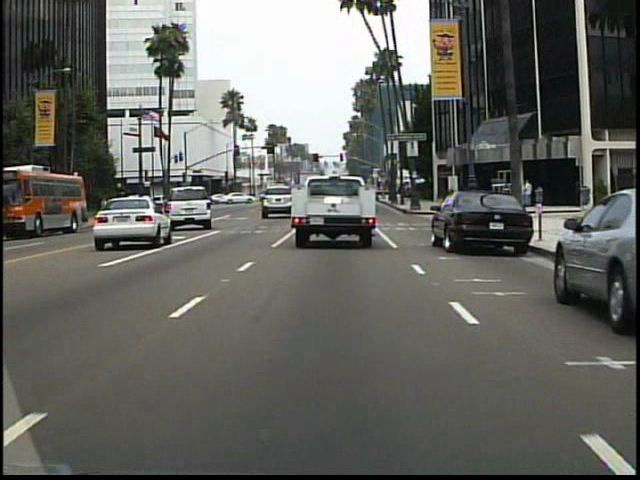person: (523, 177, 534, 195)
